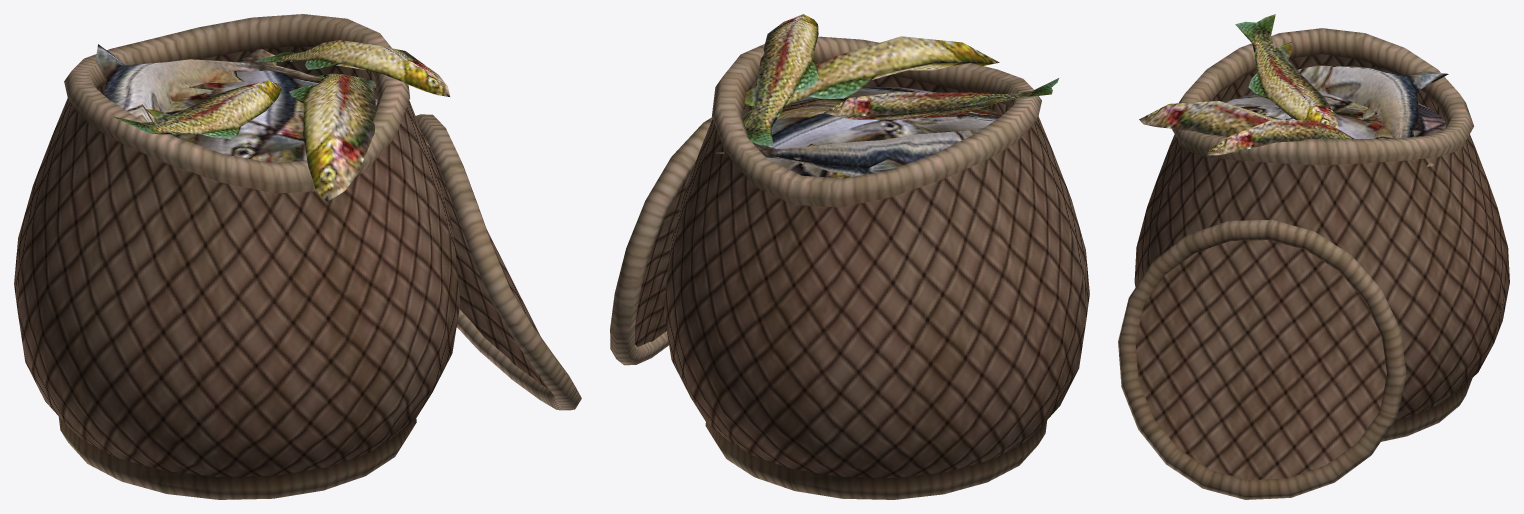
Rendered from village_wicker_basket_with_fish.fbx.
3 views of the same model, side by side, from view 1: azimuth 30°, elevation 25°; view 2: azimuth 150°, elevation 25°; view 3: azimuth 270°, elevation 25° (orthographic). The views are drawn at different scales.
Visible parts, largest first — view 1: village_wicker_basket_with_fish; view 2: village_wicker_basket_with_fish; view 3: village_wicker_basket_with_fish.
Part boxes in pixels (box(x1,y1,x2,y2)): village_wicker_basket_with_fish: box(14, 14, 581, 499); village_wicker_basket_with_fish: box(610, 14, 1089, 499); village_wicker_basket_with_fish: box(1118, 14, 1509, 499).
Size of the model in its own units: 60.48 by 46.66 by 52.22.
